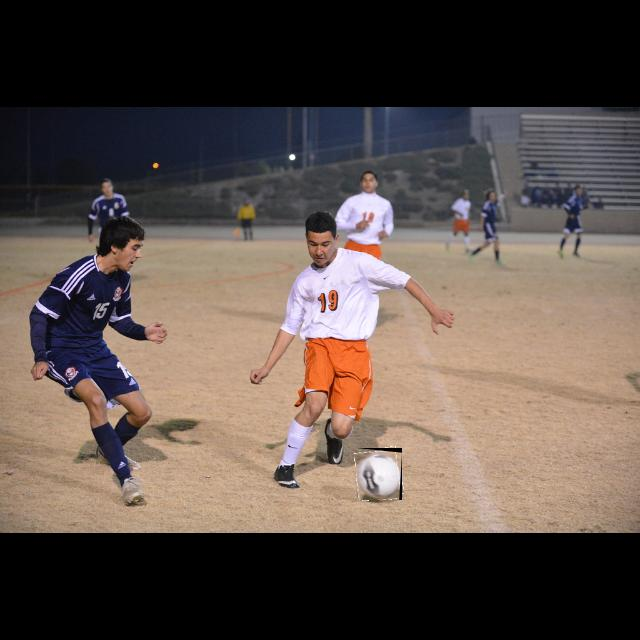Football: (356, 448, 402, 500)
